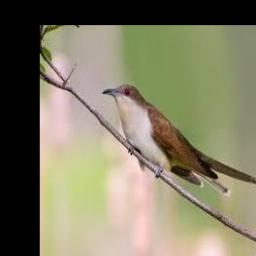Cuckoo: (102, 85, 256, 196)
